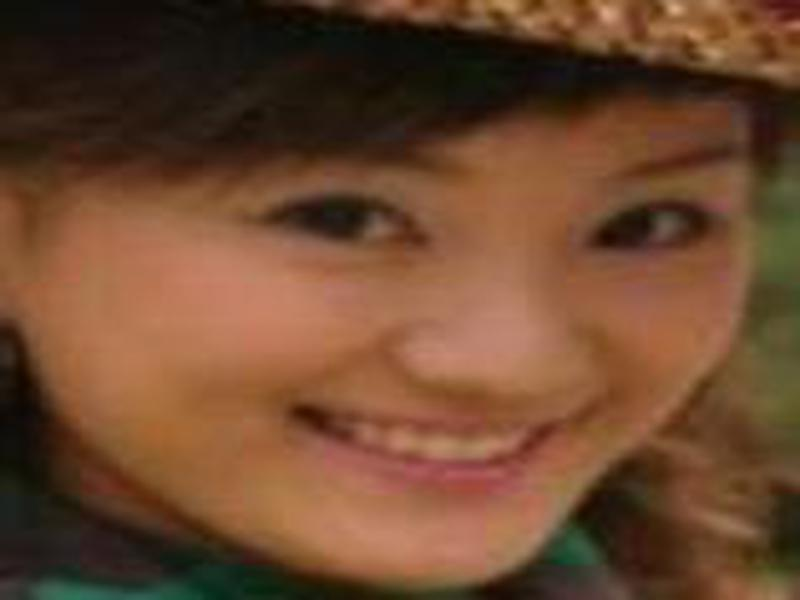without_mask: (1, 53, 761, 587)
